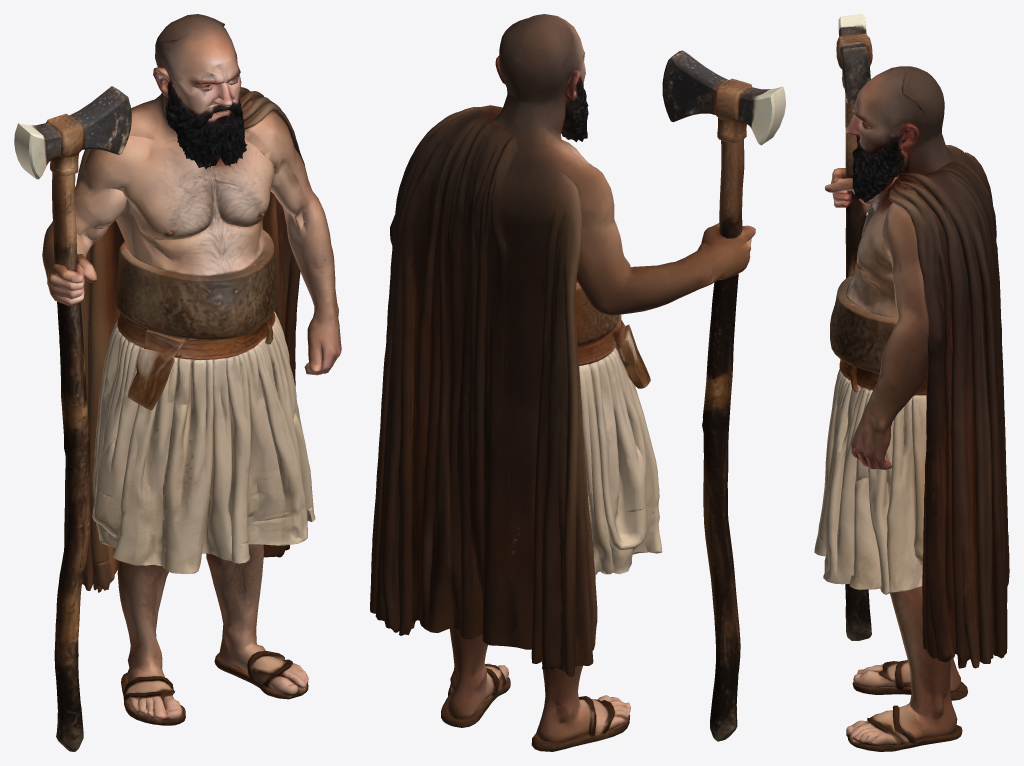
The model's file is crowd_axeman_rodin_source.glb.
3 renders of one model, left to right at view 1: azimuth 30°, elevation 25°; view 2: azimuth 150°, elevation 25°; view 3: azimuth 270°, elevation 25°, orthographic. The views are drawn at different scales.
Parts seen in each view (by area): view 1: model; view 2: model; view 3: model.
Part boxes in pixels (x1,y1,x2,y2): model: (14,14,341,751); model: (370,14,785,751); model: (814,14,1009,751).
Size of the model in its own units: 0.9884 by 1.9 by 0.5234.
1 material, 1 textured.
